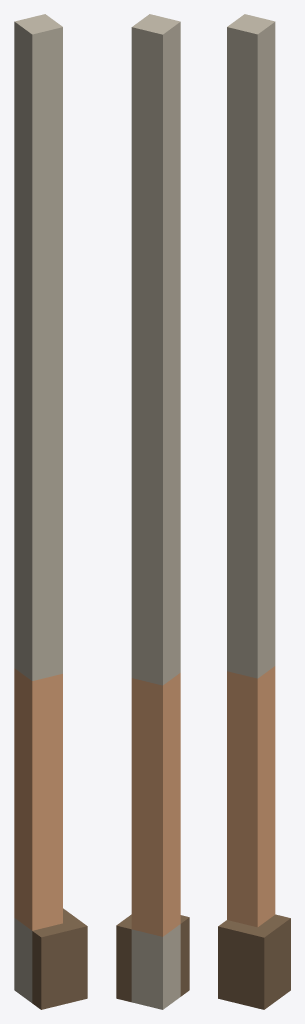
File: Mesh_WallBaseboard2Colors_C6.fbx
3 renders of one model, left to right at view 1: azimuth 30°, elevation 25°; view 2: azimuth 150°, elevation 25°; view 3: azimuth 330°, elevation 25°, orthographic.
Parts seen in each view (by area): view 1: Mesh_WallBaseboard2Colors_C6; view 2: Mesh_WallBaseboard2Colors_C6; view 3: Mesh_WallBaseboard2Colors_C6.
Boxes of the visible parts, bbox=[...] form: Mesh_WallBaseboard2Colors_C6: bbox=[14, 14, 87, 1009]; Mesh_WallBaseboard2Colors_C6: bbox=[116, 14, 189, 1009]; Mesh_WallBaseboard2Colors_C6: bbox=[218, 14, 290, 1009].
Bounding box in the file's own units: 0.15 × 3 × 0.15.
